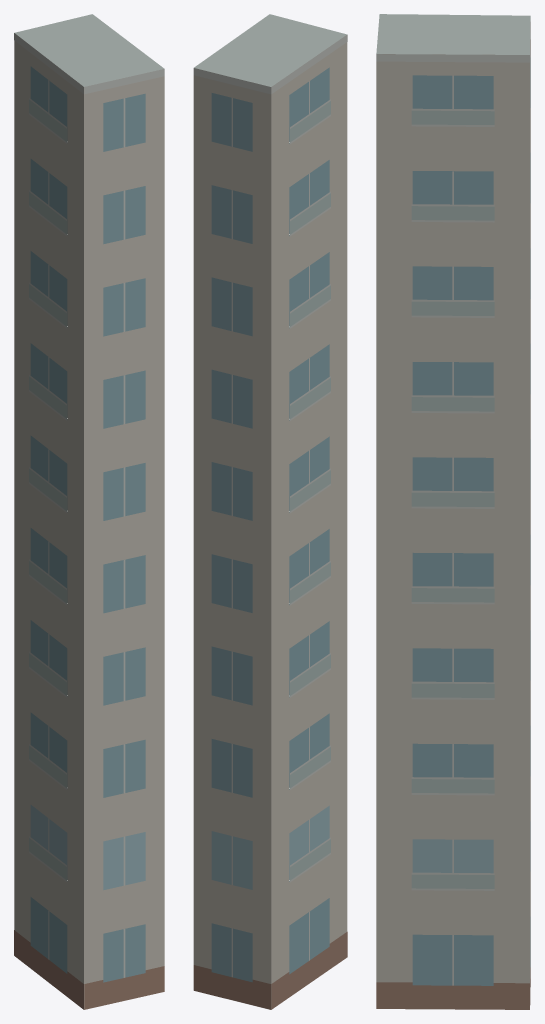
Rendered from survey-upis-32839057.glb.
3 renders of one model, left to right at view 1: azimuth 30°, elevation 25°; view 2: azimuth 150°, elevation 25°; view 3: azimuth 270°, elevation 25°, orthographic. The views are drawn at different scales.
Visible parts, largest first — view 1: survey-upis-32839057.tmp; view 2: survey-upis-32839057.tmp; view 3: survey-upis-32839057.tmp.
Boxes of the visible parts, x1,y1,x2,y2 form: survey-upis-32839057.tmp: (14,14,164,1009); survey-upis-32839057.tmp: (193,14,347,1009); survey-upis-32839057.tmp: (376,14,530,1009).
Bounding box in the file's own units: 2.85 × 30.5 × 4.48.
